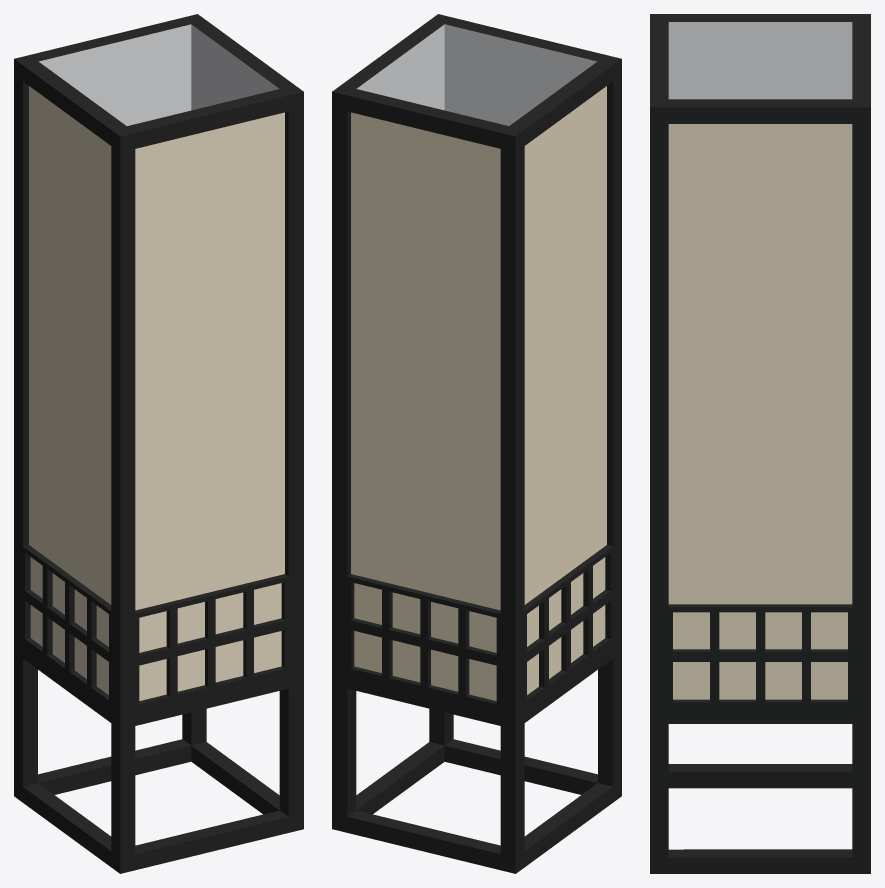
File: Accesories_Lamp3.005.glb
3 renders of one model, left to right at view 1: azimuth 30°, elevation 25°; view 2: azimuth 150°, elevation 25°; view 3: azimuth 270°, elevation 25°, orthographic. The views are drawn at different scales.
Visible parts, largest first — view 1: Accesories_Lamp3.005; view 2: Accesories_Lamp3.005; view 3: Accesories_Lamp3.005.
Boxes of the visible parts, bbox=[...] form: Accesories_Lamp3.005: bbox=[14, 14, 303, 873]; Accesories_Lamp3.005: bbox=[332, 14, 621, 873]; Accesories_Lamp3.005: bbox=[650, 14, 870, 873].
Bounding box in the file's own units: 0.2927 × 1.12 × 0.293.
Materials: 1 (1 with a texture image).
